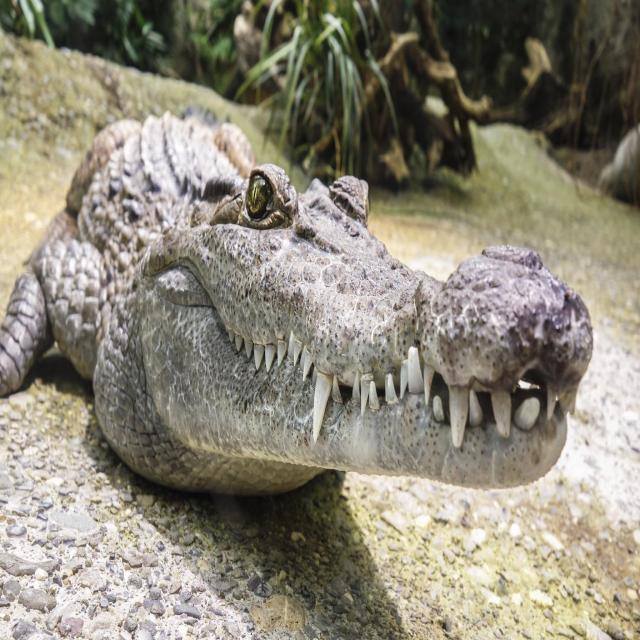crocodile: (0, 79, 604, 547)
